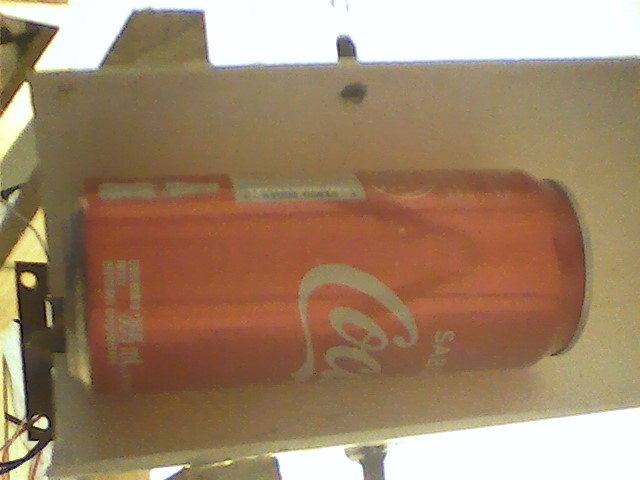lata: (61, 164, 596, 409)
